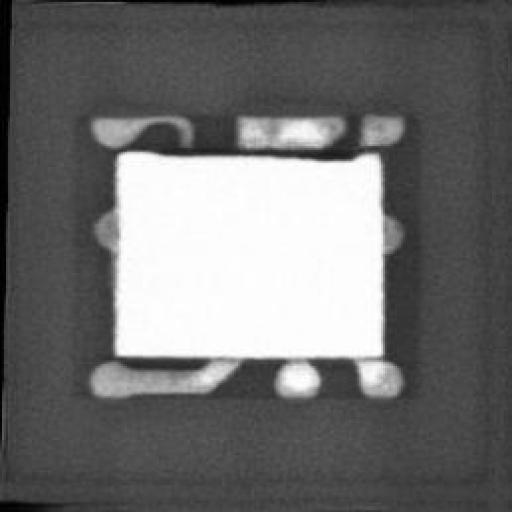DIE_BROKEN: (149, 140, 365, 162)
